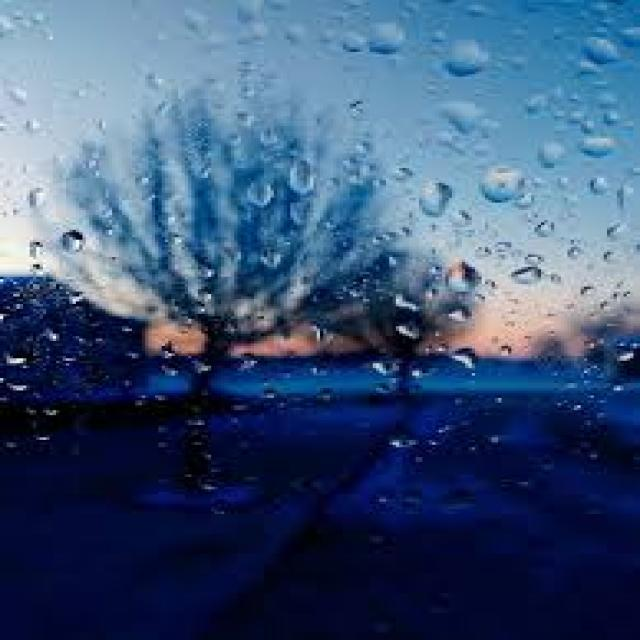raindrop: (430, 25, 505, 83), (419, 92, 504, 136), (364, 6, 422, 66), (431, 248, 497, 300), (472, 157, 535, 205), (411, 172, 465, 223), (280, 152, 332, 202), (574, 26, 624, 74), (522, 133, 574, 179), (447, 337, 493, 384), (574, 129, 630, 167), (336, 20, 388, 58), (49, 219, 98, 259), (242, 170, 282, 213), (364, 347, 406, 384), (384, 285, 427, 320), (387, 316, 431, 348), (504, 258, 550, 288)
